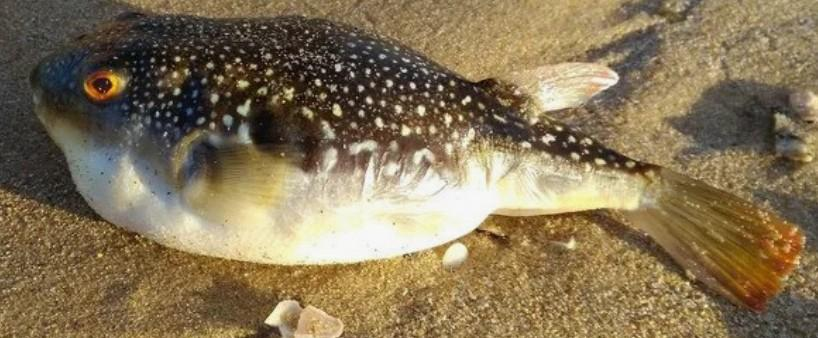fish: (30, 12, 803, 306)
